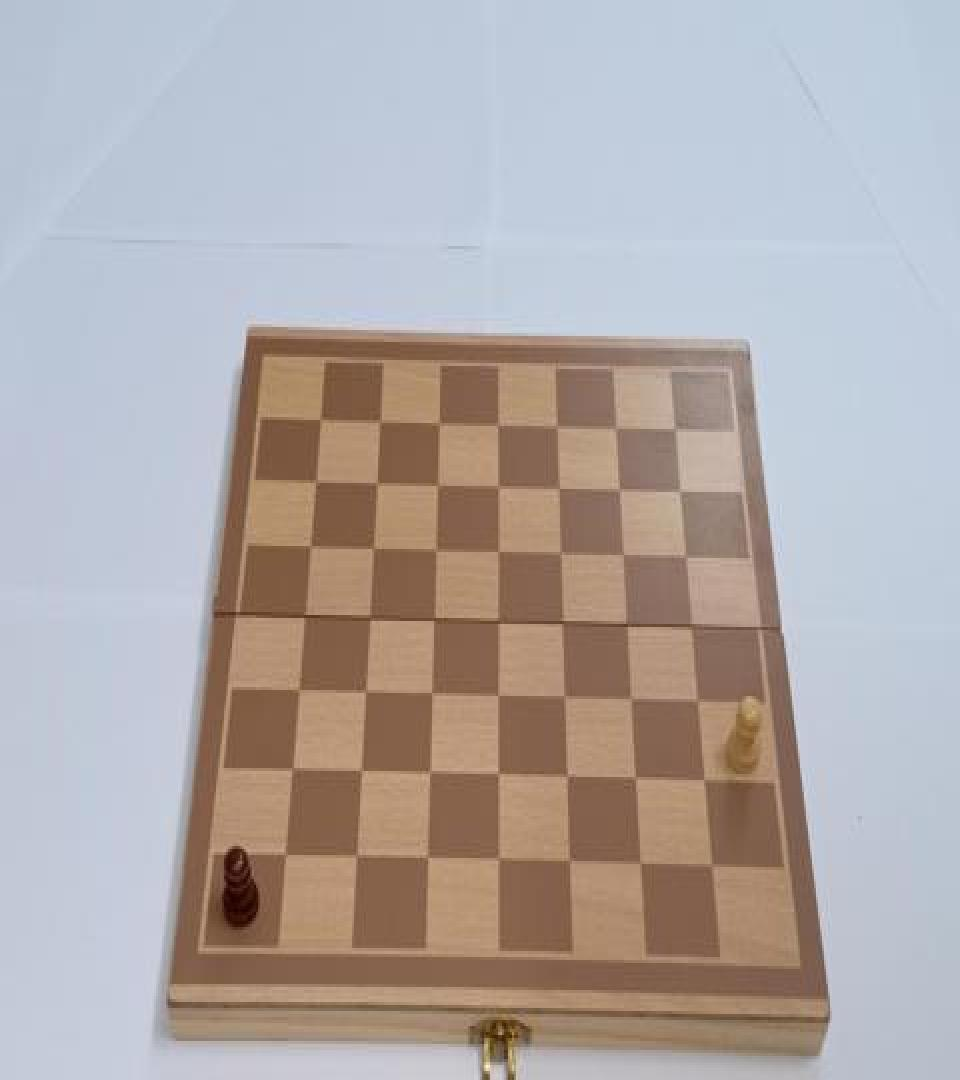xcorner: (369, 472, 387, 500), (353, 760, 371, 788), (431, 412, 449, 440), (612, 478, 630, 506), (667, 418, 685, 446), (308, 471, 326, 498), (303, 537, 321, 564), (297, 606, 315, 633), (285, 759, 303, 786), (278, 843, 296, 870), (372, 411, 390, 438), (365, 538, 383, 565), (358, 683, 376, 710), (349, 846, 367, 873), (429, 474, 447, 501), (428, 540, 446, 567), (426, 609, 444, 636), (424, 684, 442, 711), (422, 762, 440, 789), (490, 414, 508, 441), (490, 610, 508, 637), (491, 765, 509, 792), (491, 849, 509, 876), (549, 415, 567, 442), (551, 477, 569, 504), (553, 543, 571, 570), (555, 612, 573, 639), (557, 687, 575, 714), (559, 766, 577, 793), (562, 851, 580, 878), (608, 417, 626, 444), (615, 545, 633, 572), (619, 615, 637, 642), (624, 689, 642, 716), (628, 768, 646, 795), (672, 480, 690, 507), (678, 546, 696, 573), (684, 617, 702, 644), (690, 690, 708, 717), (704, 855, 722, 882), (313, 410, 331, 436), (291, 680, 309, 706), (362, 608, 380, 634), (420, 848, 438, 874), (490, 476, 508, 502), (490, 542, 508, 568), (490, 686, 508, 712), (633, 854, 651, 880), (697, 770, 715, 796)
